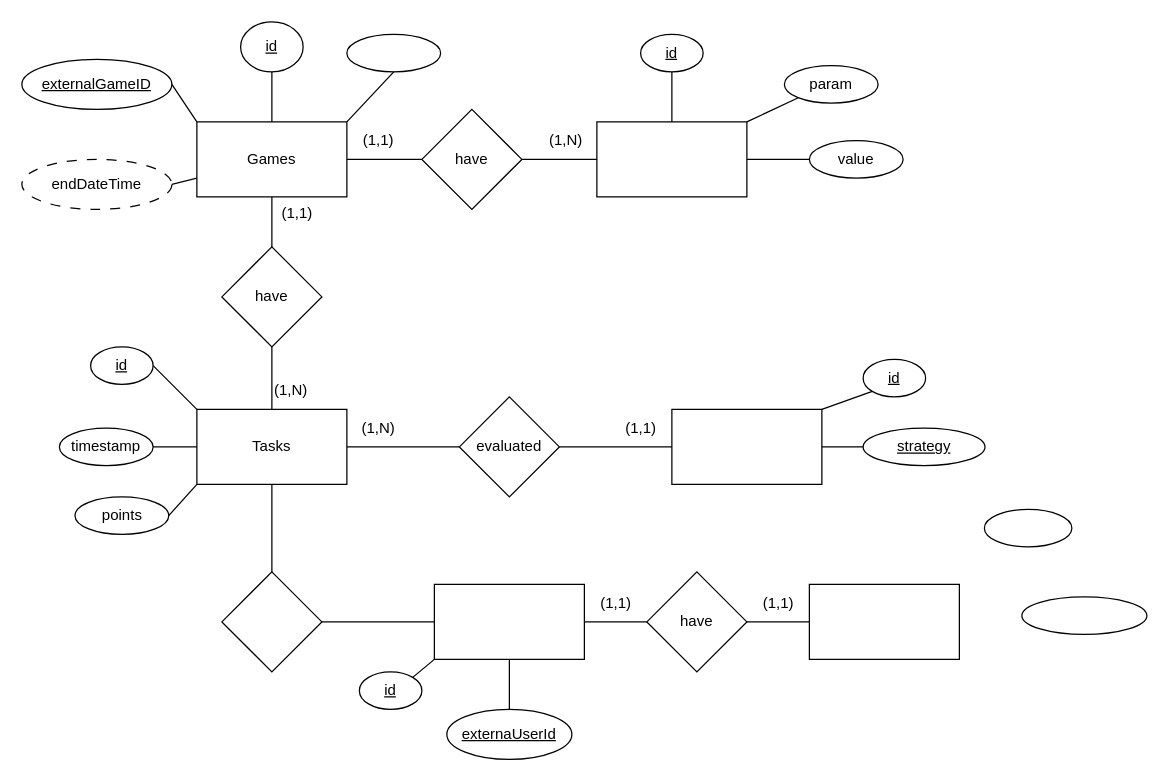
Some shapes in this 1169 by 781 pixel diagram are drawn without their labels. Each missing label, with the centre of its shape:
coins: the point at 1027,527
done by: the point at 271,621
GameParams: the point at 671,159
platform: the point at 393,52
pointsClaimed: the point at 1084,615
Strategies: the point at 746,446
Users: the point at 508,621
Wallet: the point at 883,621
